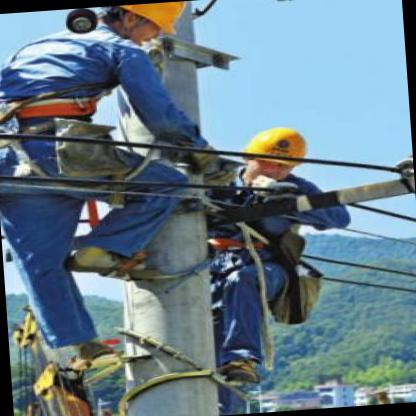bee: (235, 120, 318, 187), (93, 1, 193, 50)
